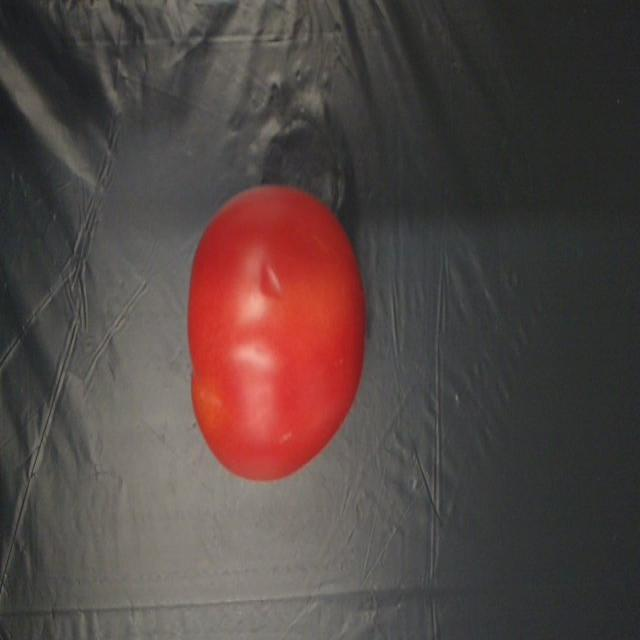kirmizi: (168, 156, 384, 510)
